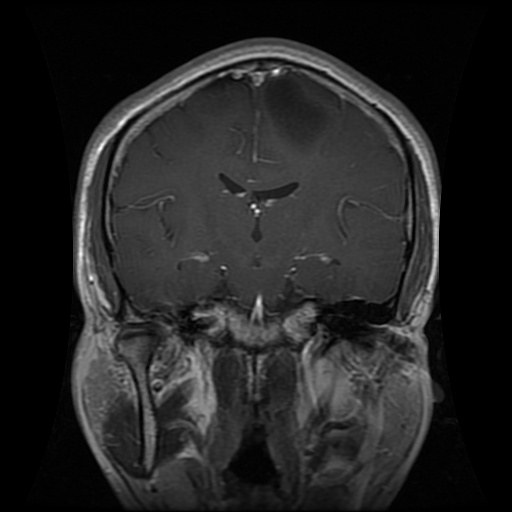glioma: (260, 70, 329, 157)
